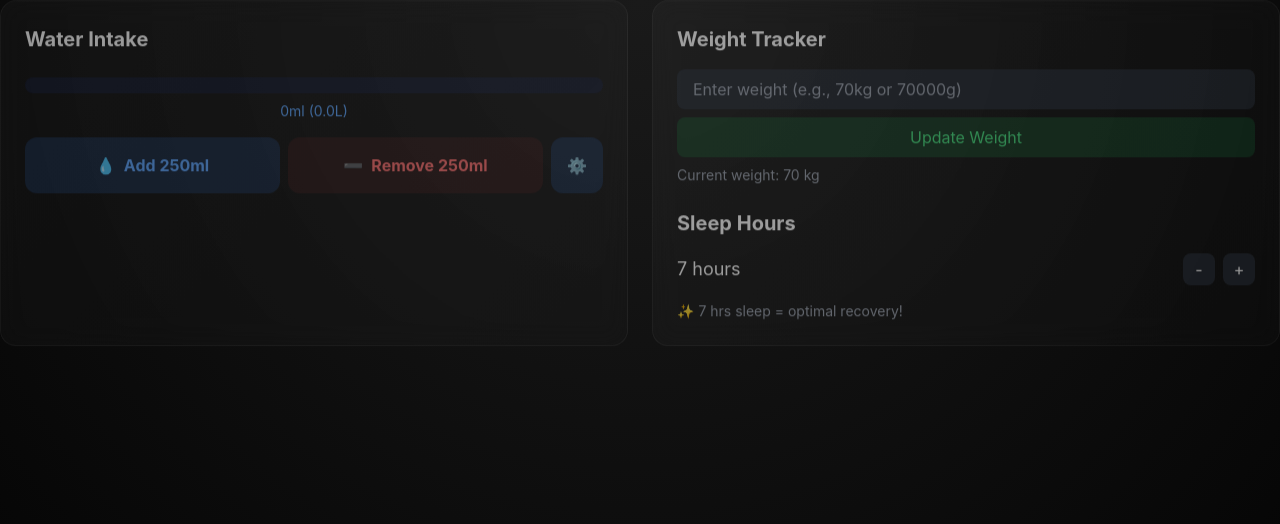
Test: WaterSleep › handles weight input correctly
Note: Test valid weight in kg
Type "75kg" into the field with placeholder "Enter weight (e.g., 70kg or 70000g)". click: (966, 89)
box: [677, 69, 1255, 109]
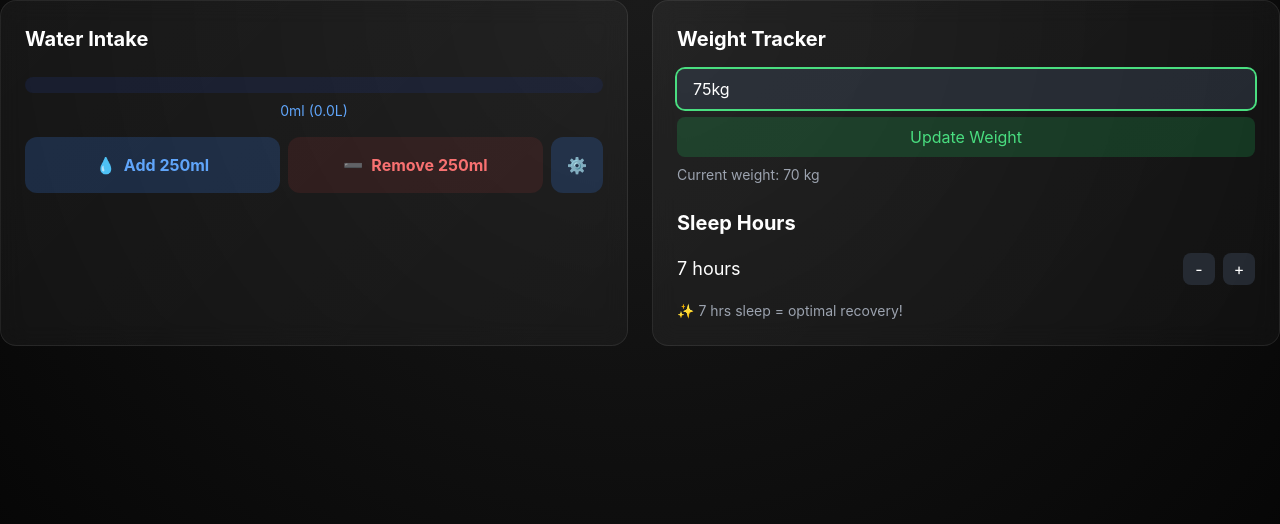
Click the button "Update Weight". click: (966, 137)
box: [677, 117, 1255, 157]
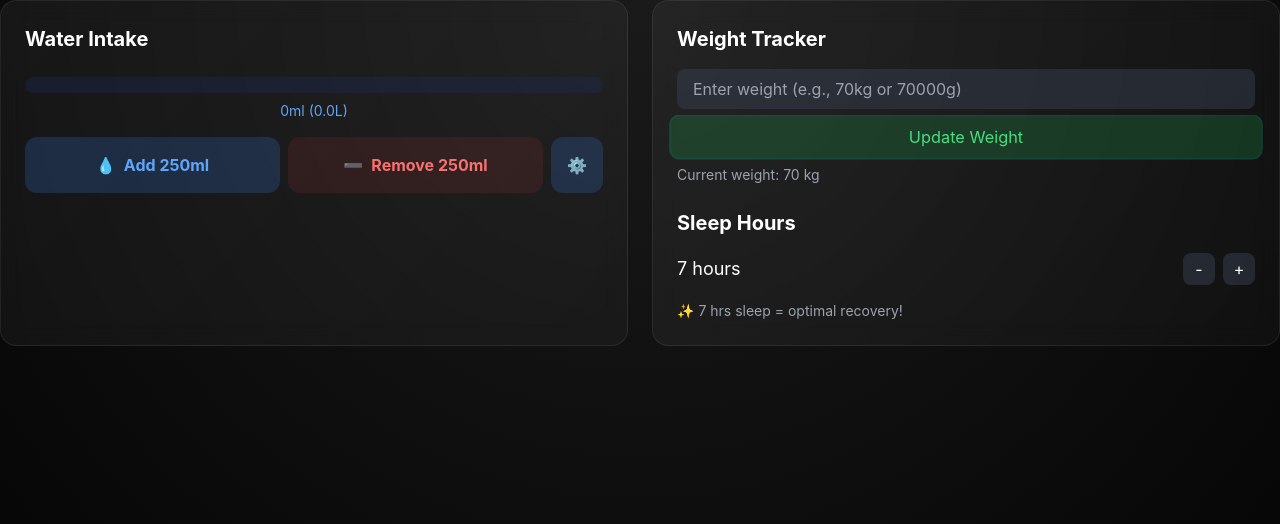
Note: Test valid weight in g
Type "75000g" into the field with placeholder "Enter weight (e.g., 70kg or 70000g)". click: (966, 89)
box: [677, 69, 1255, 109]
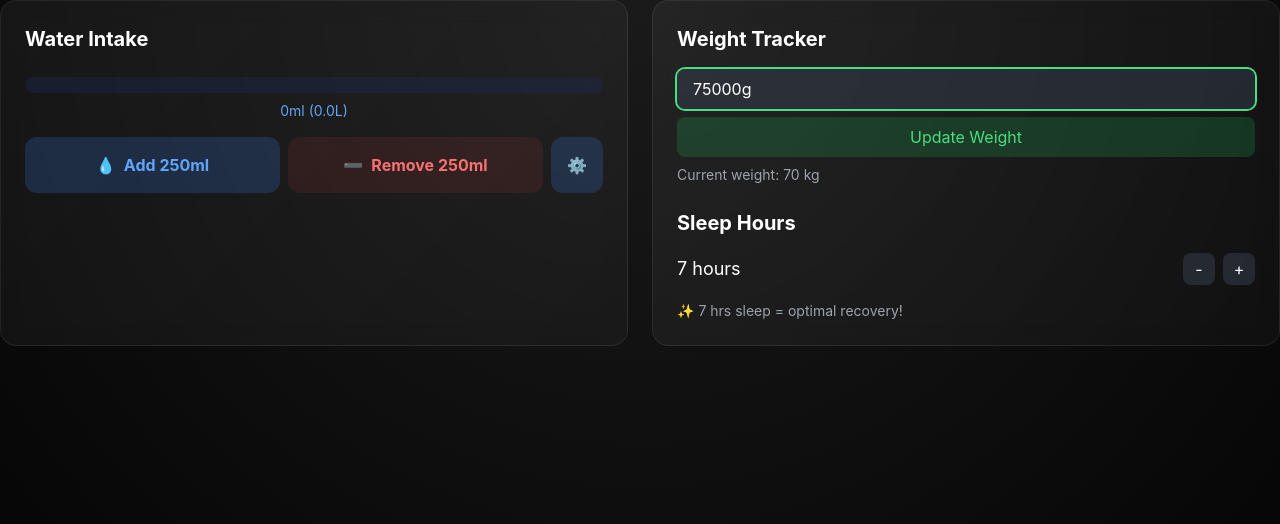
Click the button "Update Weight". click: (966, 137)
box: [677, 117, 1255, 157]
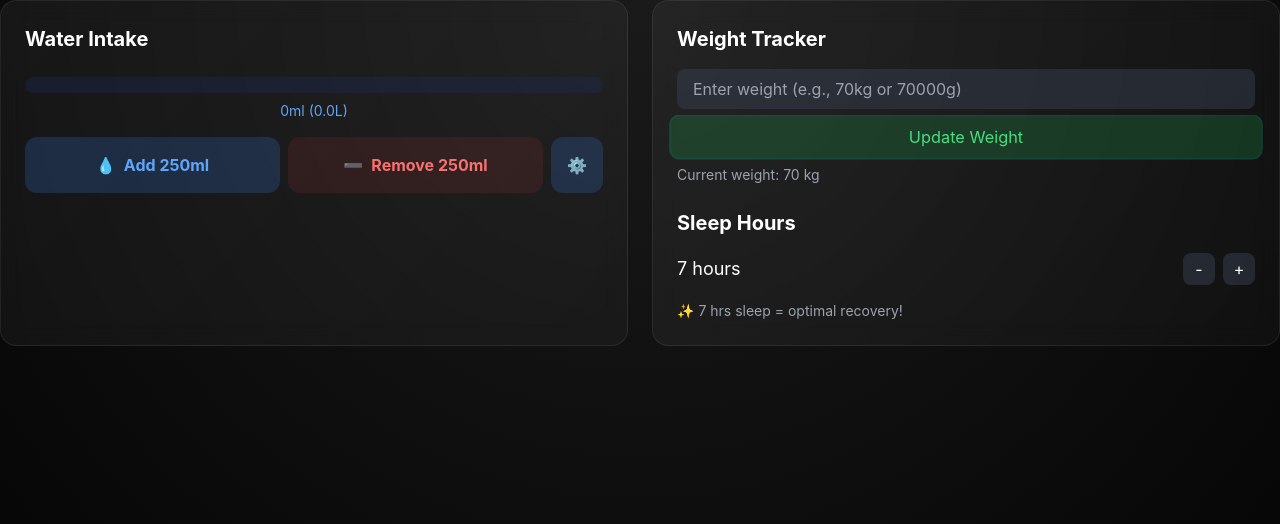
Note: Test invalid weight
Type "invalid" into the field with placeholder "Enter weight (e.g., 70kg or 70000g)". click: (966, 89)
box: [677, 69, 1255, 109]
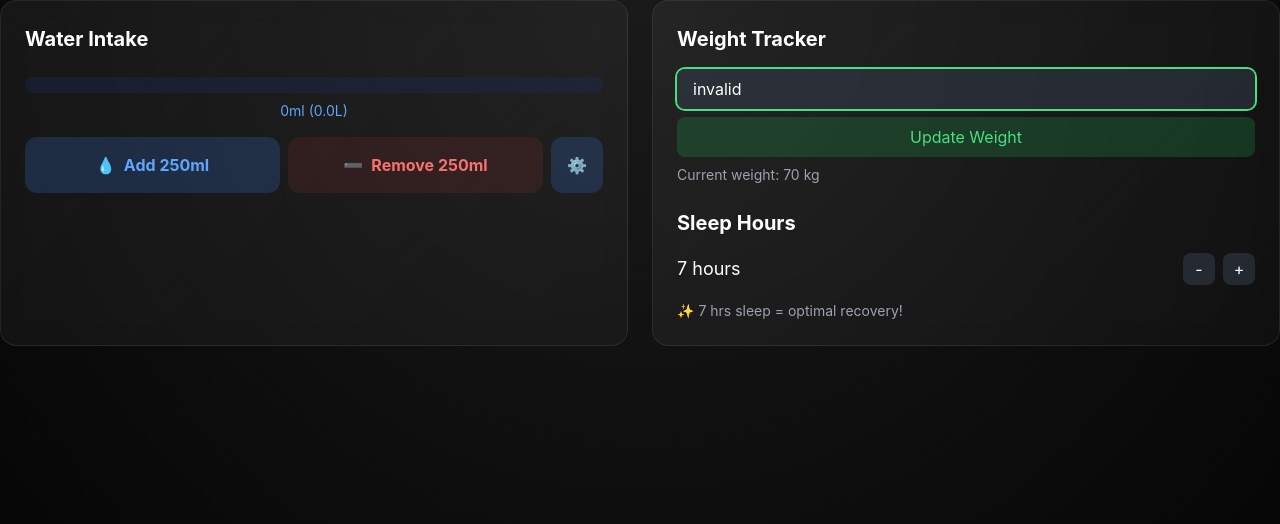
Click the button "Update Weight". click: (966, 137)
box: [677, 117, 1255, 157]
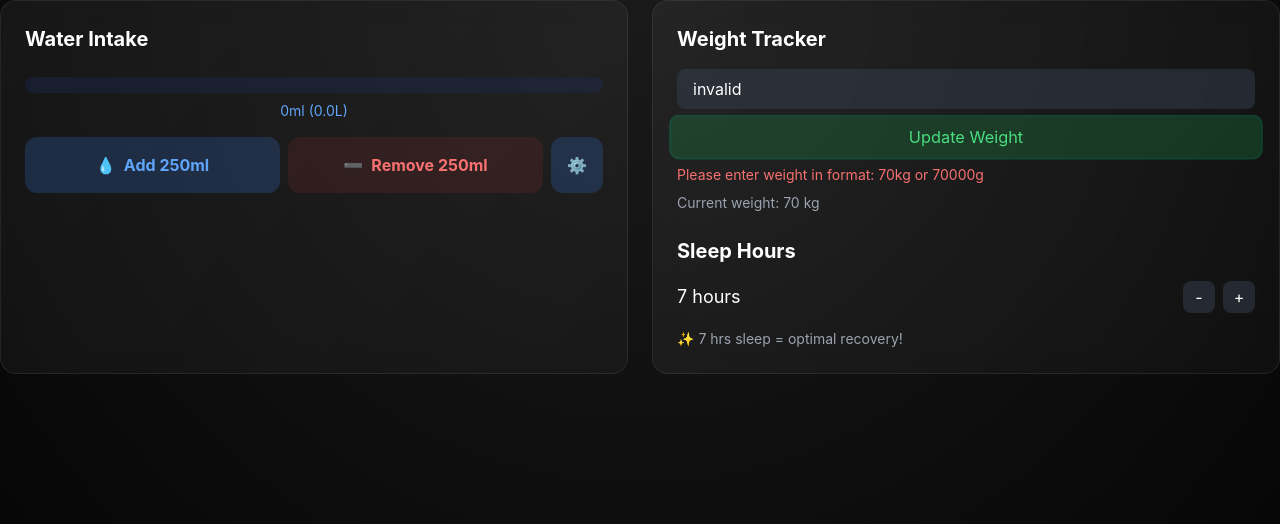
Now the text "Please enter weight in format: 70kg or 70000g" is shown, box [677, 166, 984, 183]
